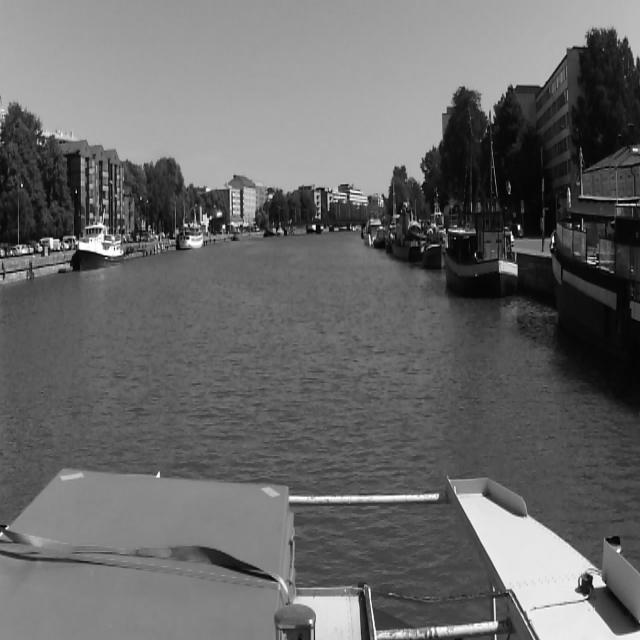ship: (557, 185, 639, 377), (444, 197, 520, 288), (77, 212, 125, 268), (386, 197, 419, 263), (421, 212, 445, 265), (182, 217, 202, 251), (372, 225, 391, 250), (363, 220, 381, 242), (266, 220, 276, 237), (234, 229, 244, 239), (278, 221, 284, 235)
